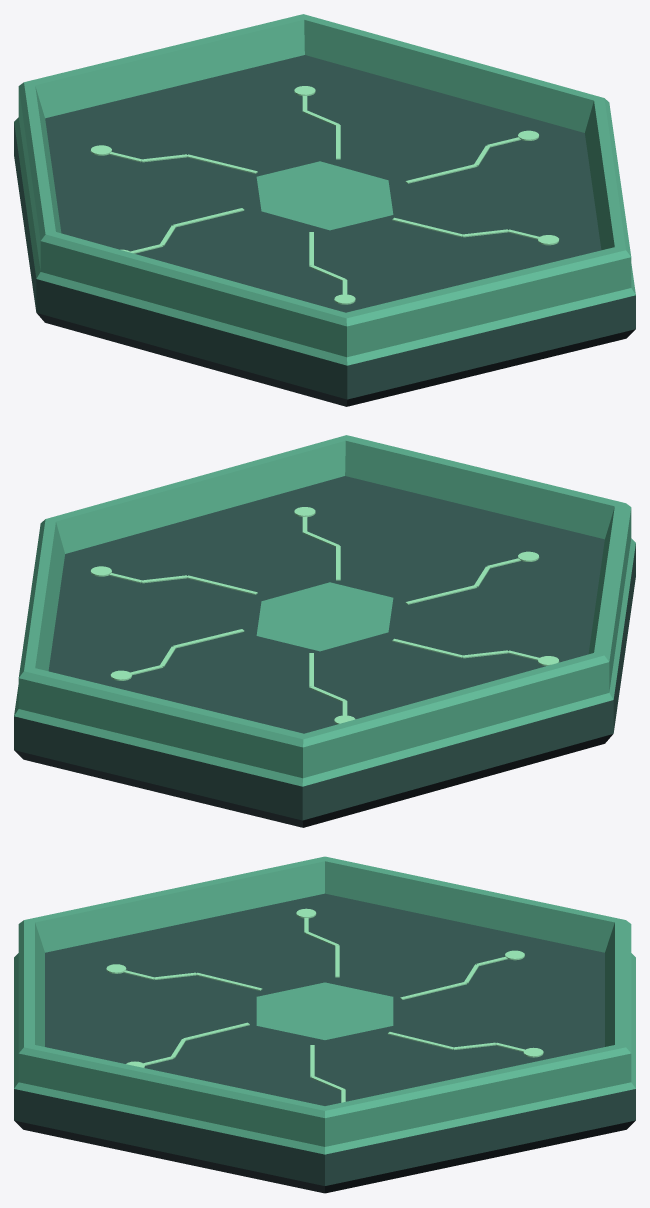
File: stone-mainframe-rotating.glb
3 renders of one model, top to bottom at view 1: azimuth 30°, elevation 25°; view 2: azimuth 150°, elevation 25°; view 3: azimuth 270°, elevation 25°, orthographic. The views are drawn at different scales.
Visible parts, largest first — view 1: platform_mesh; view 2: platform_mesh; view 3: platform_mesh.
Boxes of the visible parts, x1,y1,x2,y2 form: platform_mesh: [14, 14, 635, 406]; platform_mesh: [14, 435, 635, 827]; platform_mesh: [14, 856, 635, 1193].
Bounding box in the file's own units: 5 × 0.8 × 5.
